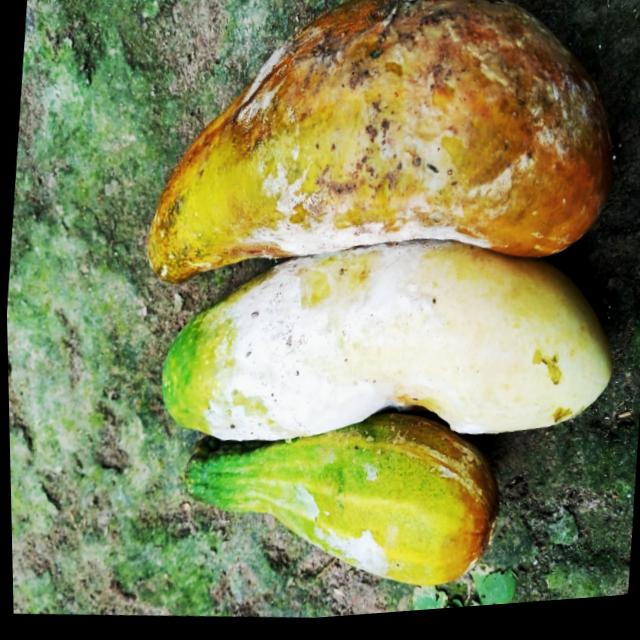Pythium-Fruit-Rot: (226, 0, 602, 285), (198, 226, 500, 467), (281, 472, 401, 591)
